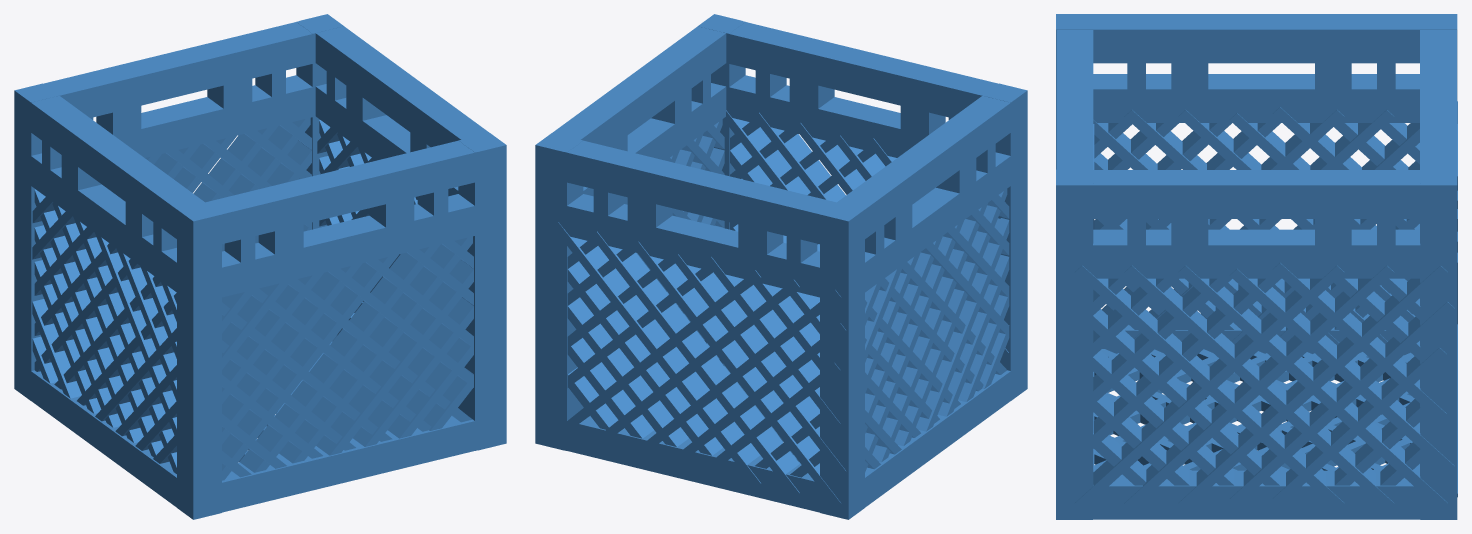
The model's file is crate.fbx.
The picture shows the model from 3 angles, left to right: view 1: azimuth 30°, elevation 25°; view 2: azimuth 150°, elevation 25°; view 3: azimuth 270°, elevation 25°; orthographic projection. The views are drawn at different scales.
Parts seen in each view (by area): view 1: Cube.001; view 2: Cube.001; view 3: Cube.001.
Boxes of the visible parts, x1,y1,x2,y2 form: Cube.001: (14,14,506,519); Cube.001: (535,14,1027,519); Cube.001: (1056,14,1457,519).
Size of the model in its own units: 220 by 200 by 218.
